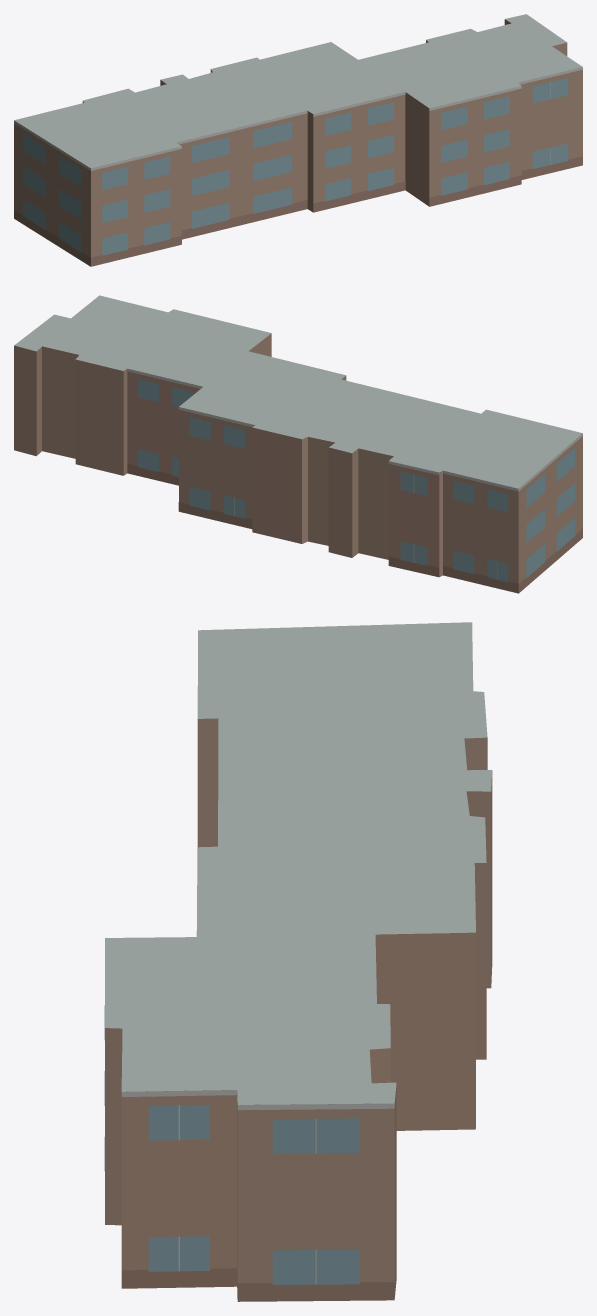
File: survey-upis-32525306.glb
The picture shows the model from 3 angles, top to bottom: view 1: azimuth 30°, elevation 25°; view 2: azimuth 150°, elevation 25°; view 3: azimuth 270°, elevation 25°; orthographic projection. The views are drawn at different scales.
Parts seen in each view (by area): view 1: survey-upis-32525306.tmp; view 2: survey-upis-32525306.tmp; view 3: survey-upis-32525306.tmp.
Part boxes in pixels (x1,y1,x2,y2): survey-upis-32525306.tmp: (14, 14, 582, 266); survey-upis-32525306.tmp: (14, 295, 582, 593); survey-upis-32525306.tmp: (104, 622, 492, 1301).
Size of the model in its own units: 48.15 by 9.15 by 16.32.
